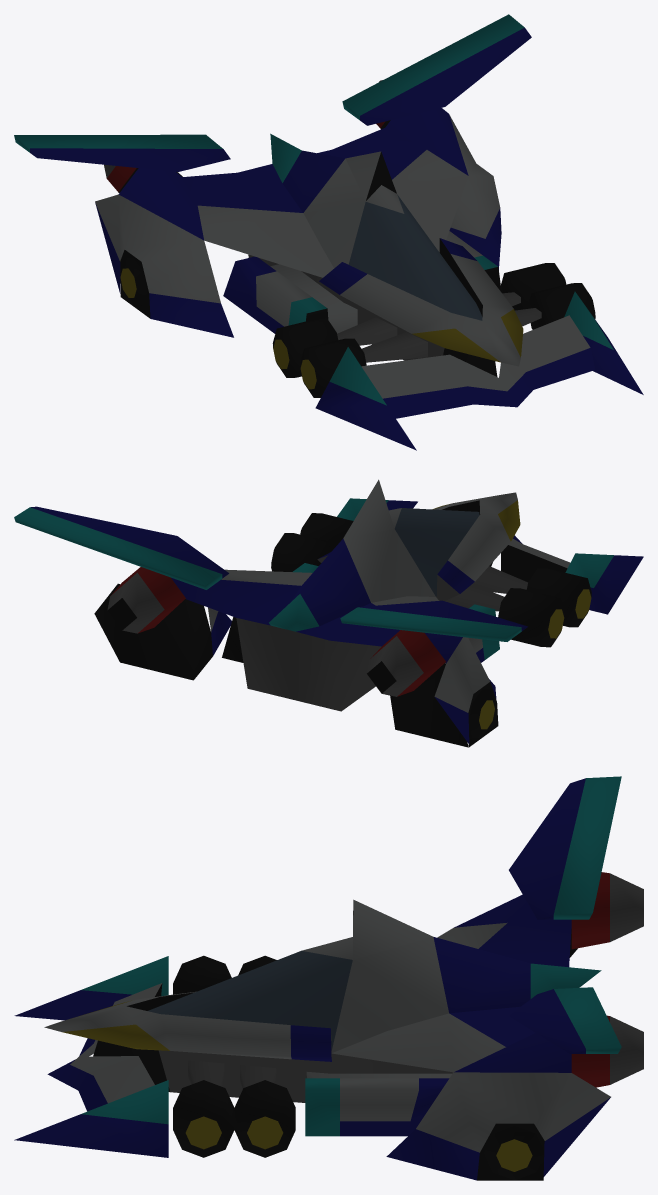
The model's file is ps2_save-icons_shinseikigpx.glb.
3 renders of one model, top to bottom at view 1: azimuth 30°, elevation 25°; view 2: azimuth 150°, elevation 25°; view 3: azimuth 270°, elevation 25°, orthographic. The views are drawn at different scales.
Visible parts, largest first — view 1: view.ico; view 2: view.ico; view 3: view.ico.
Part boxes in pixels (box(x1,y1,x2,y2)): view.ico: box(14, 14, 643, 450); view.ico: box(14, 479, 643, 747); view.ico: box(14, 776, 643, 1180).
Size of the model in its own units: 4.2 by 1.34 by 4.13.
Materials: 1 (1 with a texture image).
